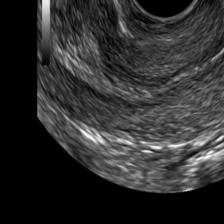no-pcos: (52, 0, 224, 194)
